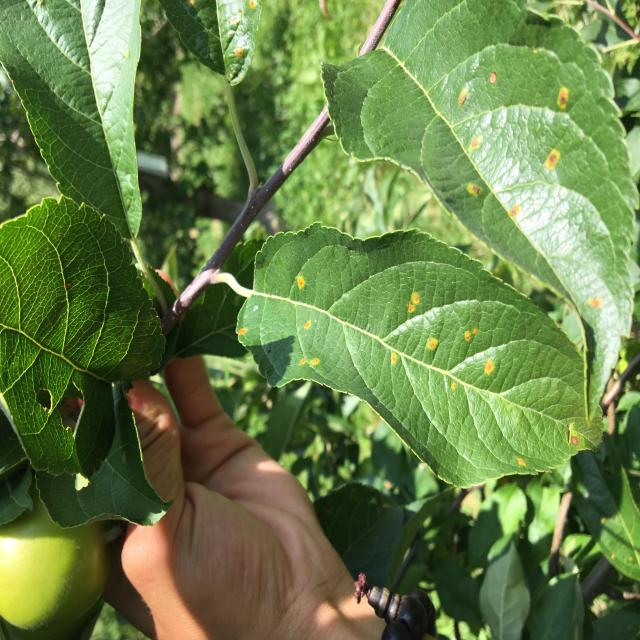Rust: (228, 36, 255, 82), (447, 70, 469, 114), (563, 419, 582, 467), (461, 170, 487, 204), (474, 348, 496, 388), (499, 198, 528, 228), (479, 67, 508, 96), (289, 270, 319, 298), (442, 370, 462, 411), (587, 284, 607, 325), (544, 143, 564, 183), (511, 449, 536, 480), (402, 282, 419, 324), (553, 77, 574, 111), (422, 328, 441, 363), (290, 348, 311, 377), (236, 317, 253, 345), (470, 127, 486, 156), (461, 321, 477, 347), (388, 344, 400, 377), (310, 357, 326, 380), (236, 0, 264, 13), (300, 316, 317, 330)
